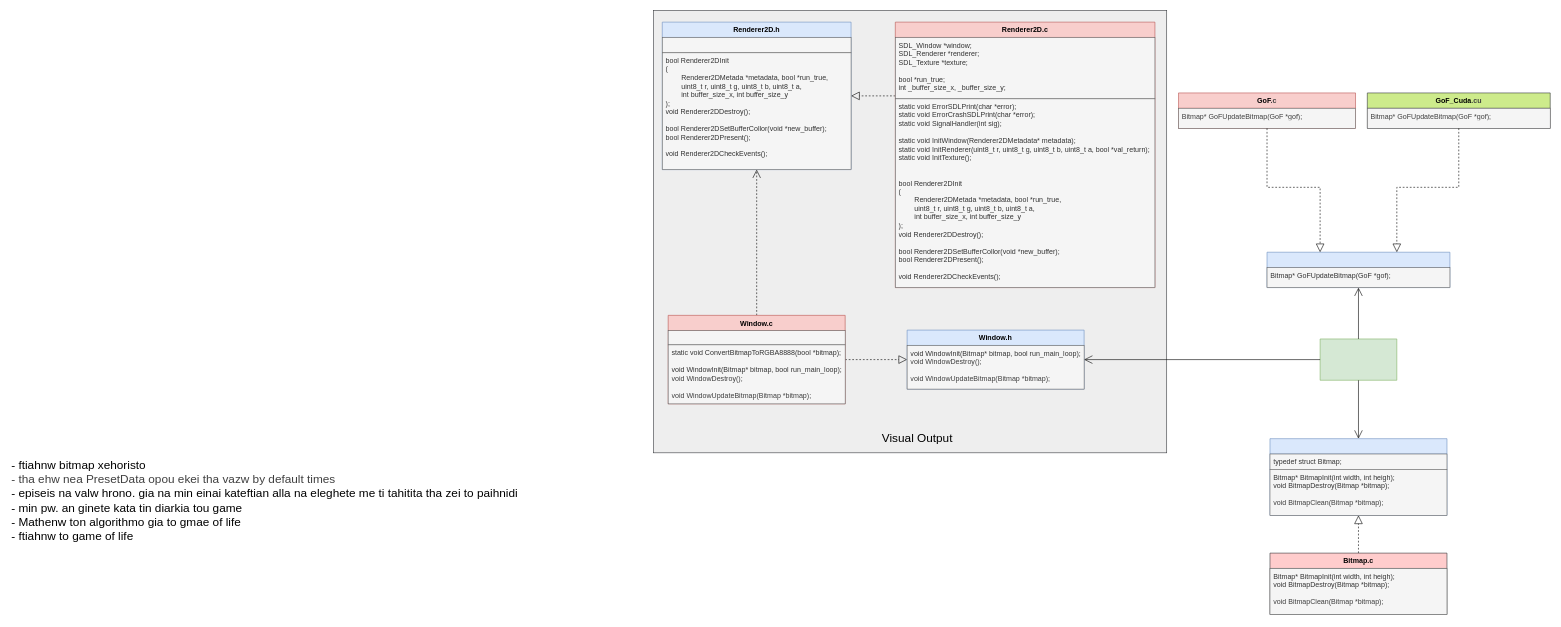
Image size: 1561x627. Some labels were removed from this diagram. Each missing label, with the box of its shape:
Bitmap.h: (1269, 438, 1447, 515)
GoF .h: (1266, 252, 1450, 288)
main: (1320, 338, 1397, 380)
static uint32_t *rgba8888;: (668, 330, 845, 345)
typedef struct Render2DMetadata: (662, 37, 851, 53)
